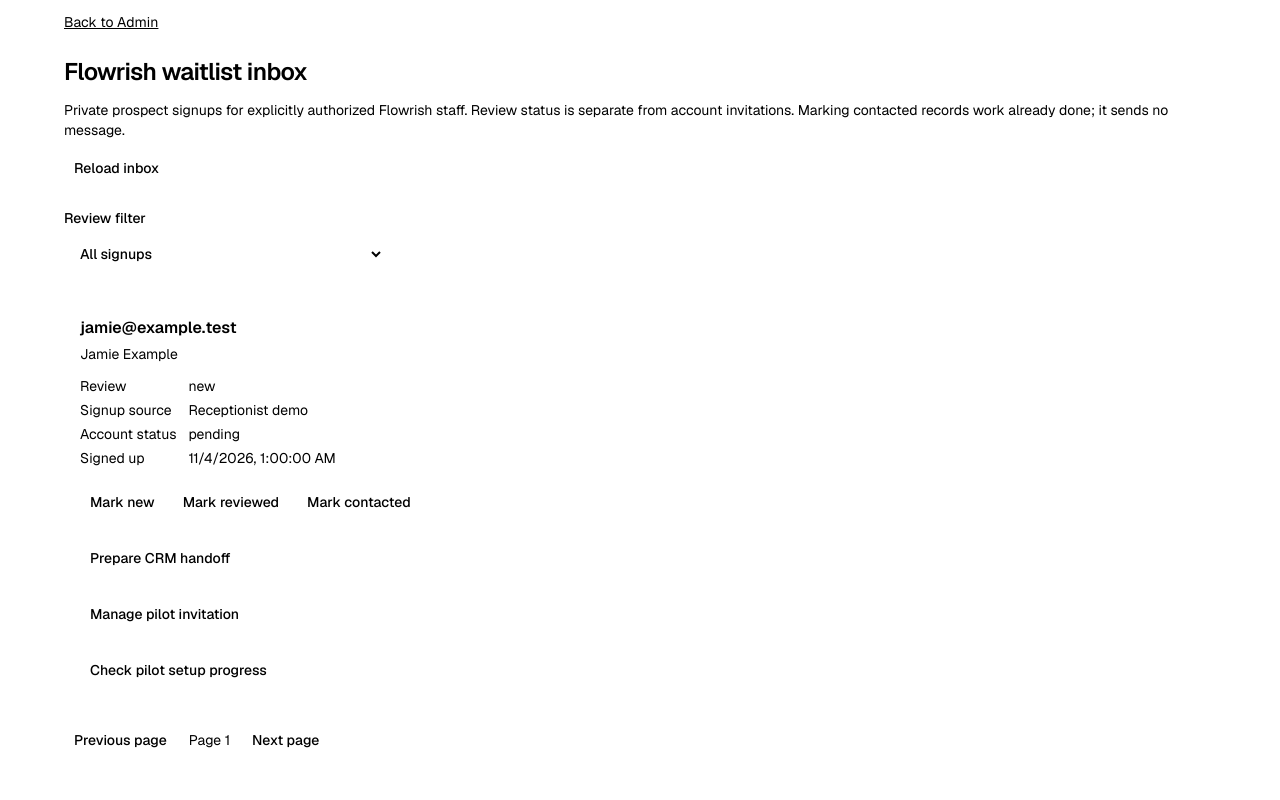
keeps deleted-target receipts read-only without offering to recreate the lead
Click the button with aria-label "Prepare CRM handoff for jamie@example.test": (160, 558) [80,536,240,580]
(page scrolled)
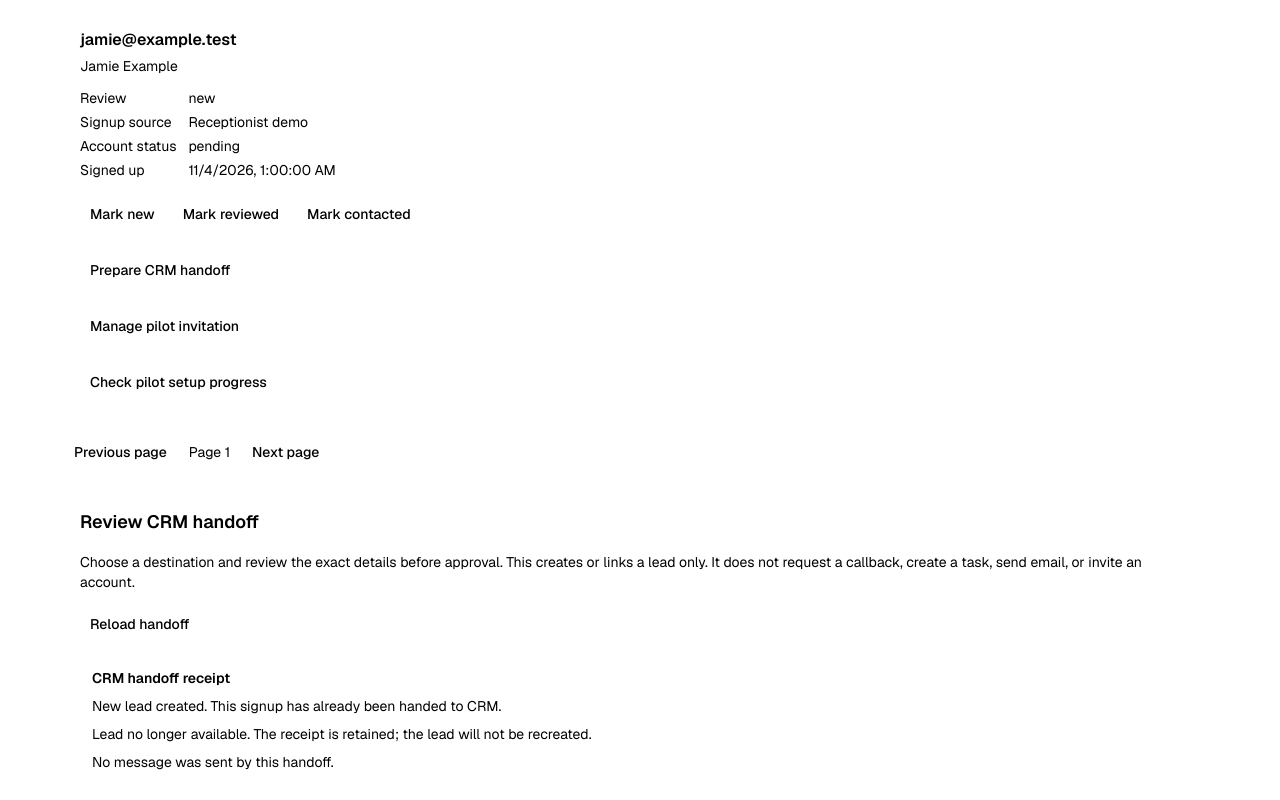
Expected: the element "CRM handoff receipt" shows "Lead no longer available", [92,725,592,743]
